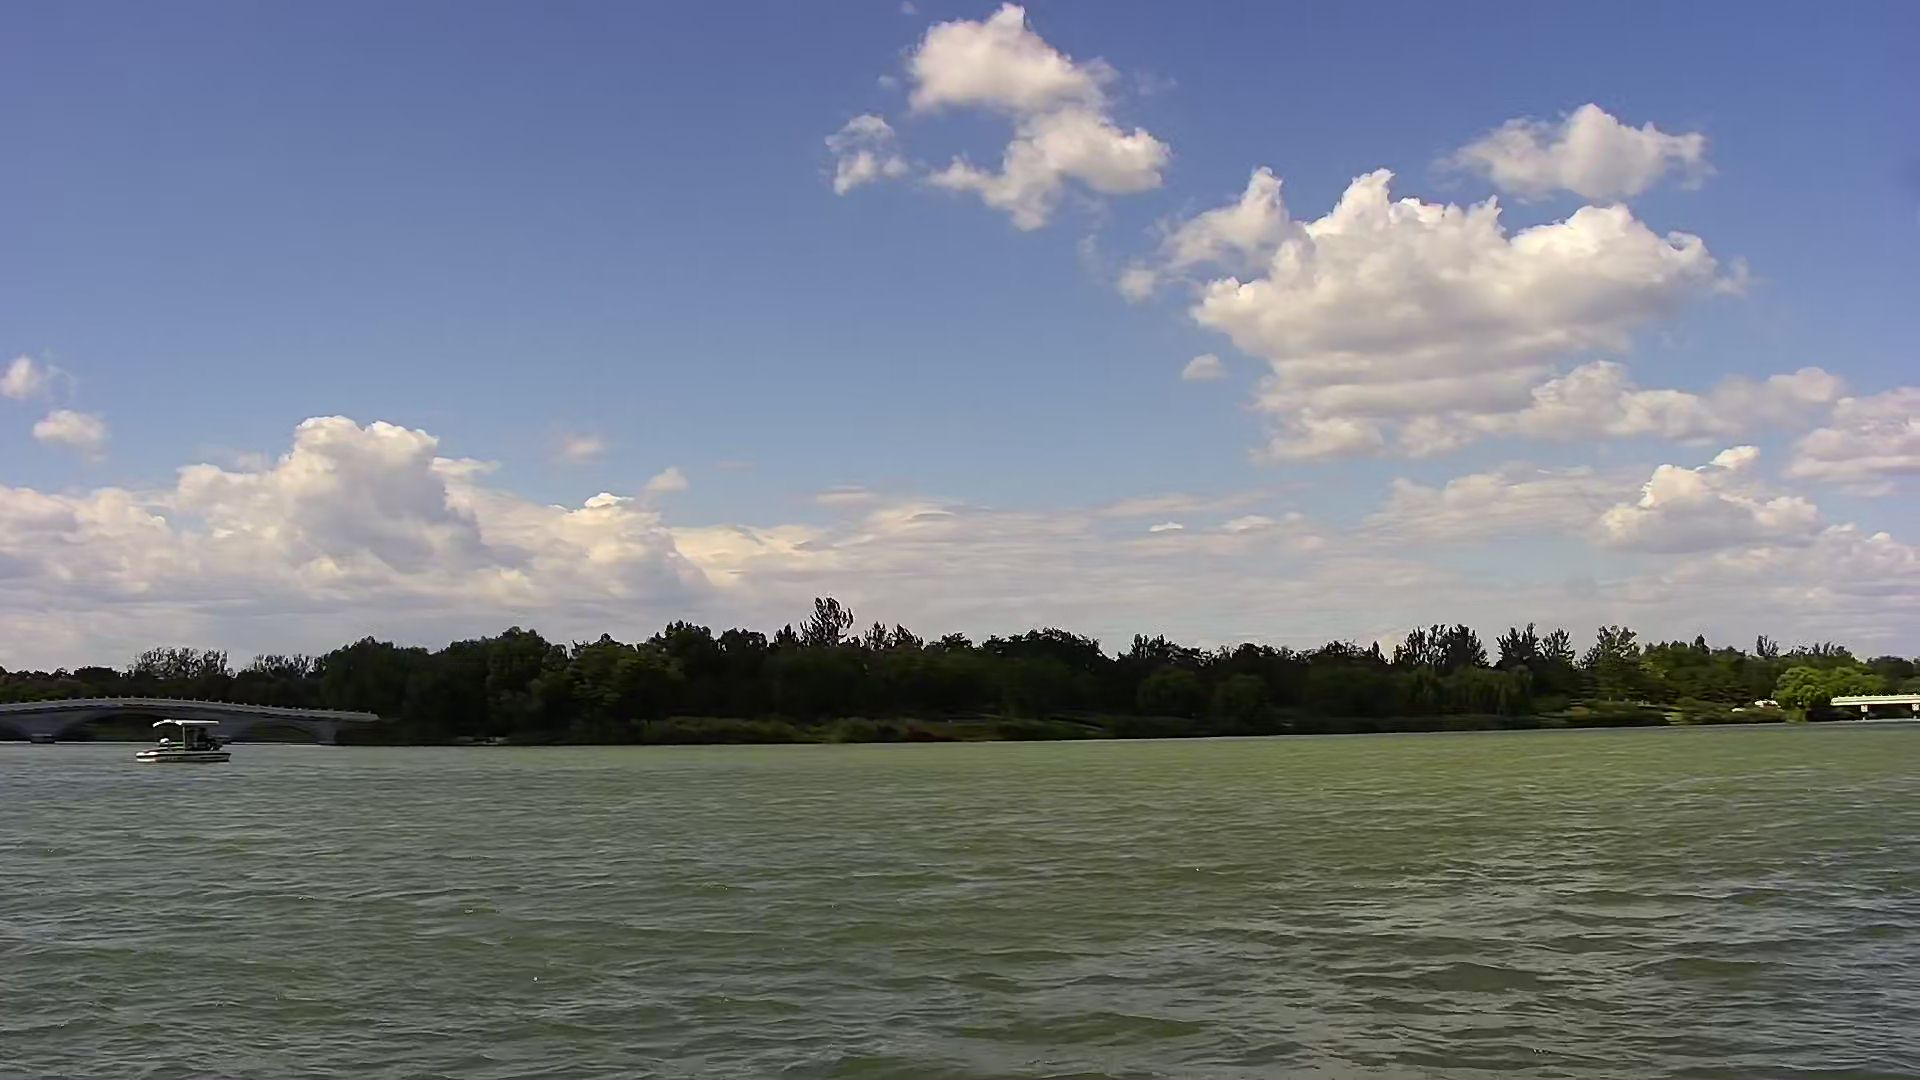boat: (138, 719, 235, 767)
bridge: (1, 698, 385, 748), (1829, 688, 1920, 731)
